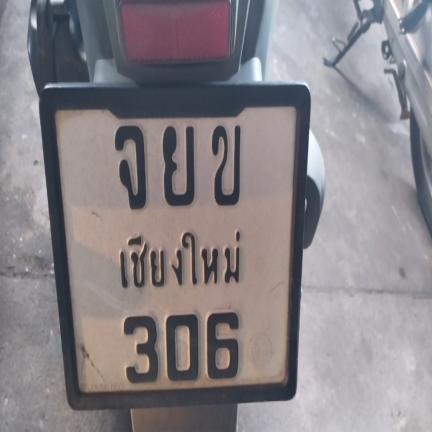0: (166, 308, 202, 384)
3: (119, 311, 161, 386)
6: (205, 308, 241, 379)
A02: (204, 121, 243, 210)
A08: (109, 125, 152, 219)
A34: (156, 121, 197, 211)
CMI: (107, 223, 246, 291)
